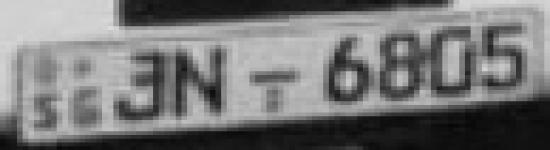-: (244, 66, 302, 88)
0: (427, 23, 480, 100)
5: (479, 16, 530, 91)
6: (315, 32, 376, 106)
8: (376, 28, 429, 104)
G: (71, 84, 109, 128)
J: (112, 48, 173, 127)
N: (169, 44, 233, 123)
S: (29, 90, 66, 131)
